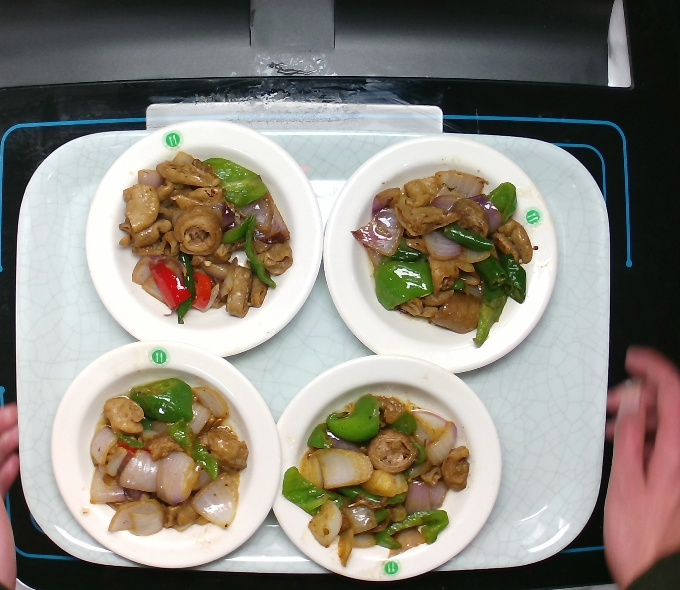wcq-QingJiaoChaoDaChang: (345, 164, 537, 352), (275, 389, 476, 567), (110, 146, 298, 330), (84, 374, 252, 538)
